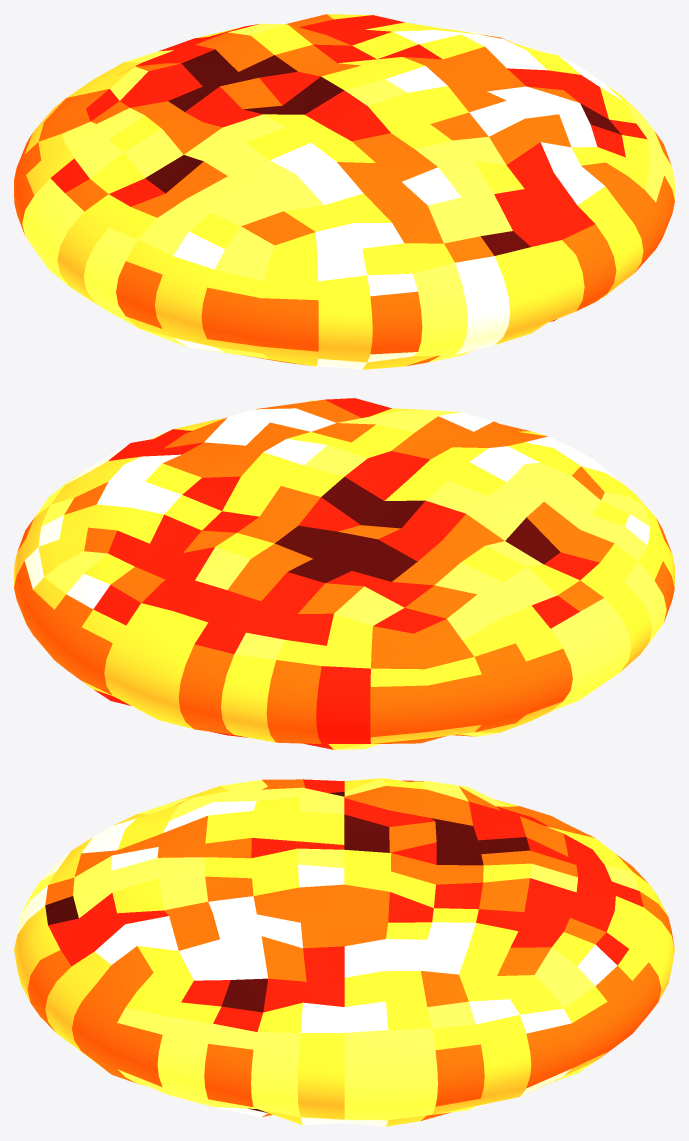
Rendered from newsh5-51.glb.
The picture shows the model from 3 angles, top to bottom: view 1: azimuth 30°, elevation 25°; view 2: azimuth 150°, elevation 25°; view 3: azimuth 270°, elevation 25°; orthographic projection.
Visible parts, largest first — view 1: newsh5-51; view 2: newsh5-51; view 3: newsh5-51.
Part boxes in pixels (<box>): newsh5-51: <box>14,14,674,369</box>; newsh5-51: <box>14,398,674,749</box>; newsh5-51: <box>14,778,674,1126</box>.
Size of the model in its own units: 1.77 by 0.6182 by 1.77.
